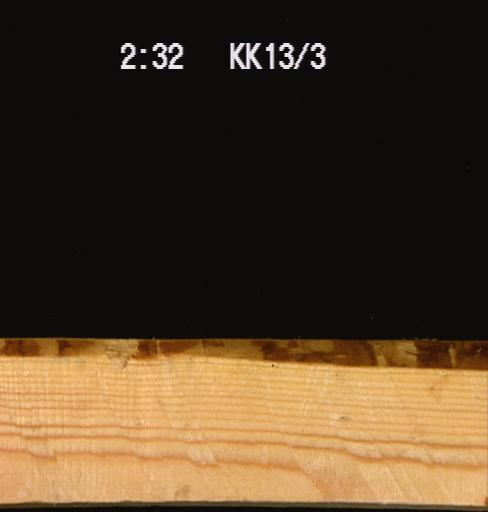wave: (0, 338, 487, 371)
